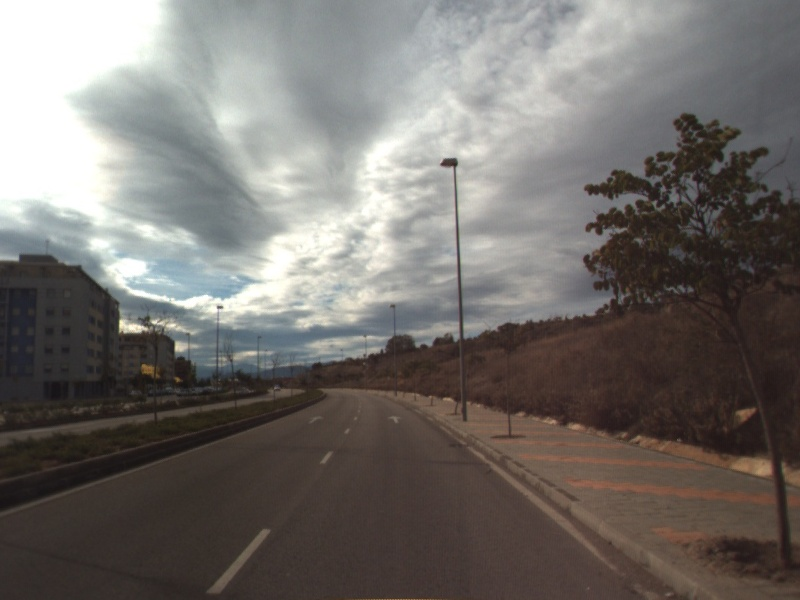STRAIGHT: (306, 413, 327, 426), (386, 413, 405, 425)
